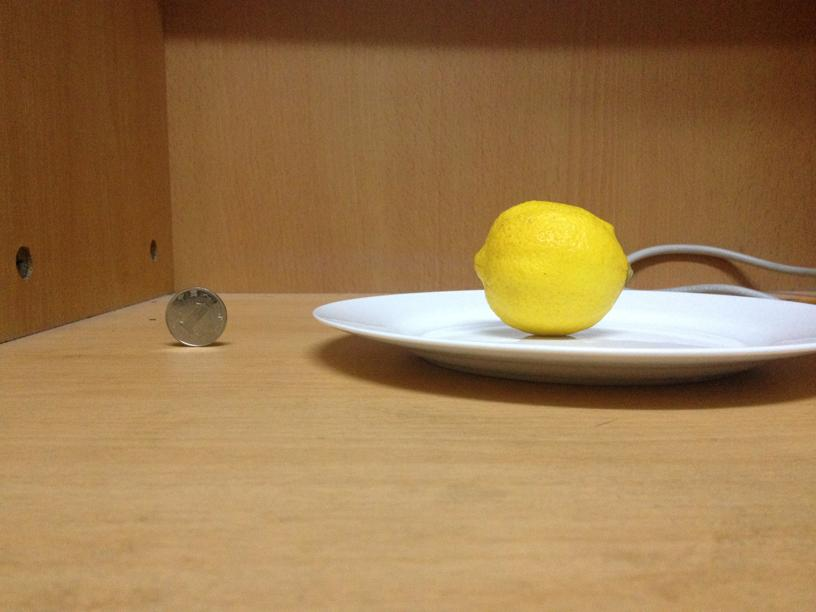coin: (166, 287, 227, 347)
lemon: (474, 203, 629, 331)
